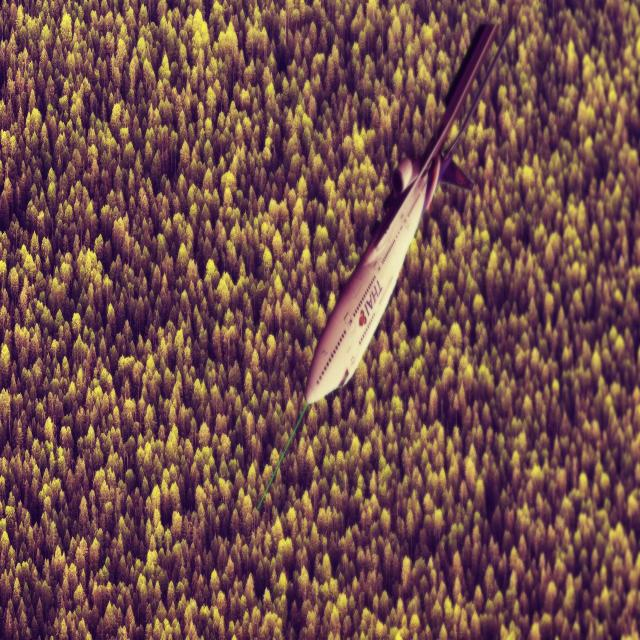airplane: (257, 18, 517, 512)
